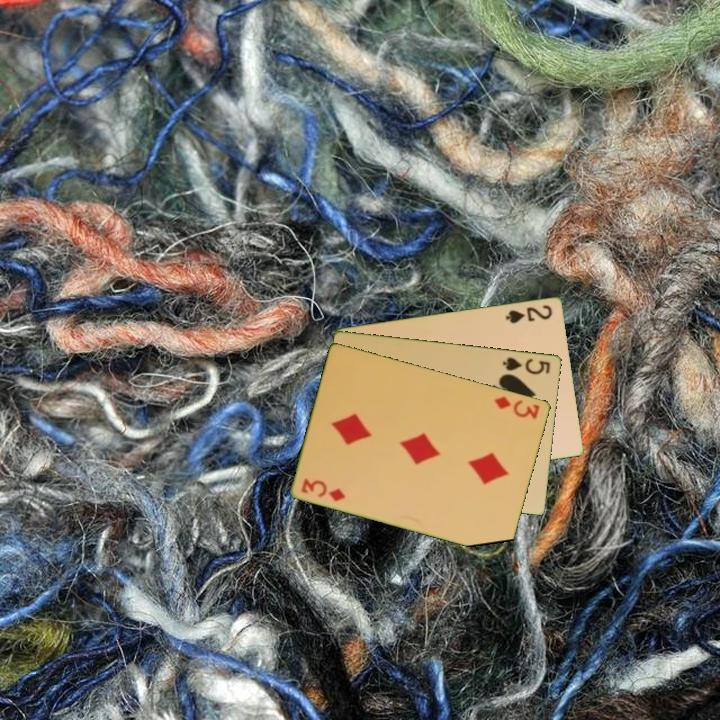2s: (502, 301, 555, 326)
3d: (491, 392, 543, 422), (298, 474, 349, 504)
5s: (499, 353, 553, 377)
